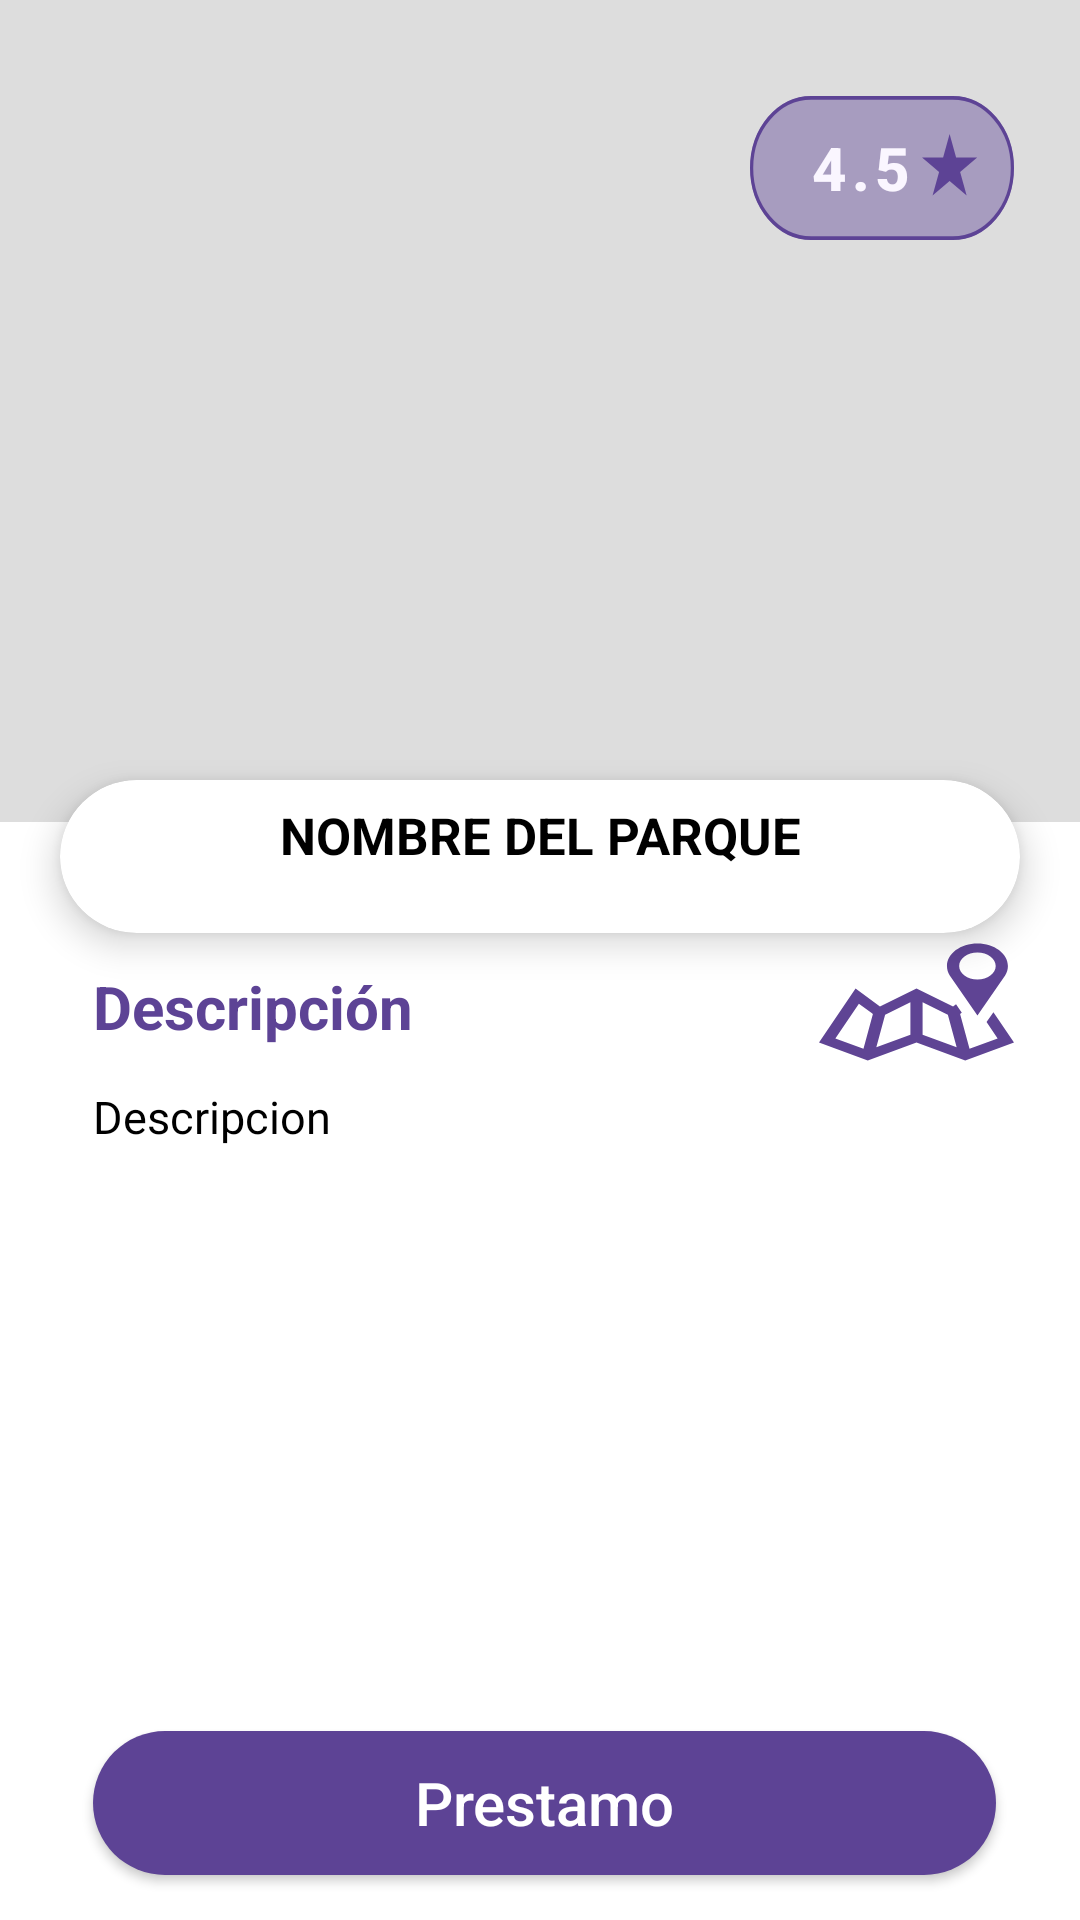

Where to tap for icons on this 1080*1920 app screen, as (x=x, y=y):
map: (x=916, y=1002)
